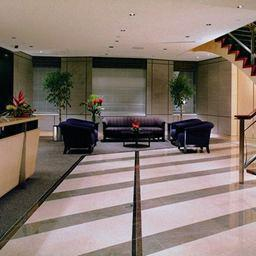Matera: (44, 71, 64, 144), (169, 73, 196, 117)
